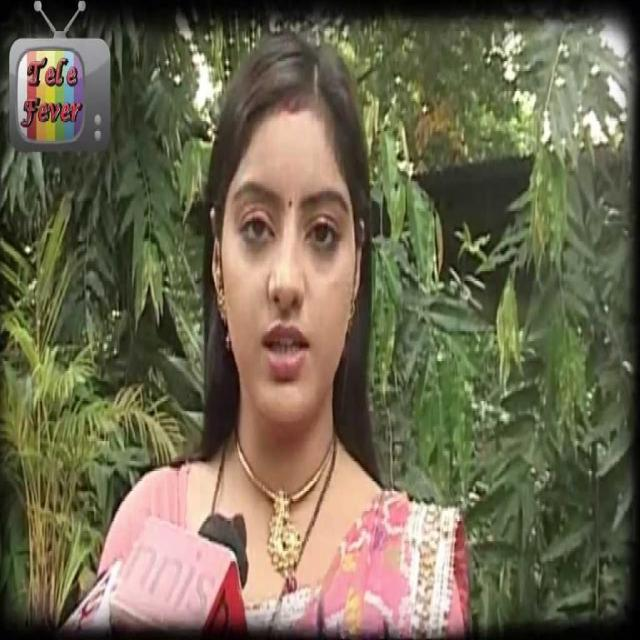nomask: (230, 116, 358, 407)
